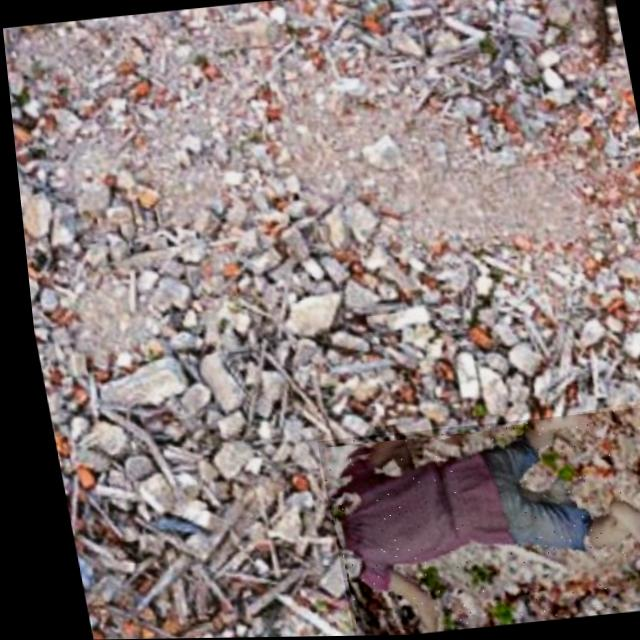Person in Rubble: (304, 406, 640, 637)
